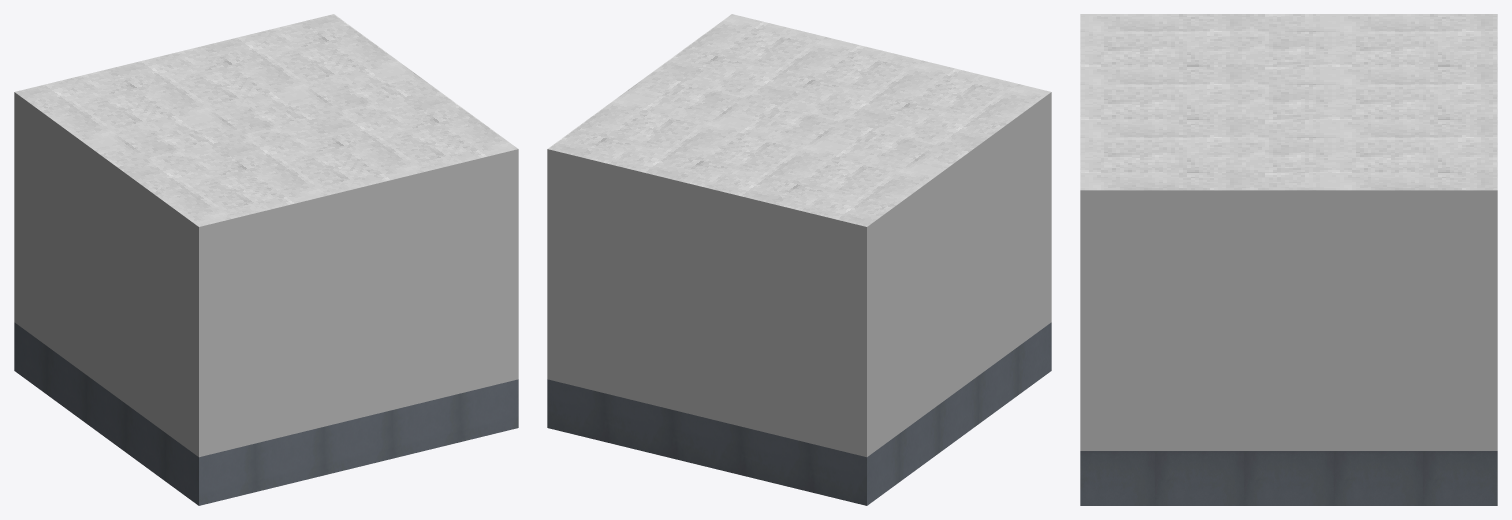
Rendered from kitchenBuilding.fbx.
The picture shows the model from 3 angles, left to right: view 1: azimuth 30°, elevation 25°; view 2: azimuth 150°, elevation 25°; view 3: azimuth 270°, elevation 25°; orthographic projection. The views are drawn at different scales.
Parts seen in each view (by area): view 1: Cube; view 2: Cube; view 3: Cube.
Boxes of the visible parts, x1=… form: Cube: x1=14, y1=14, x2=518, y2=505; Cube: x1=547, y1=14, x2=1051, y2=505; Cube: x1=1080, y1=14, x2=1497, y2=505.
Bounding box in the file's own units: 200 × 167 × 200.
